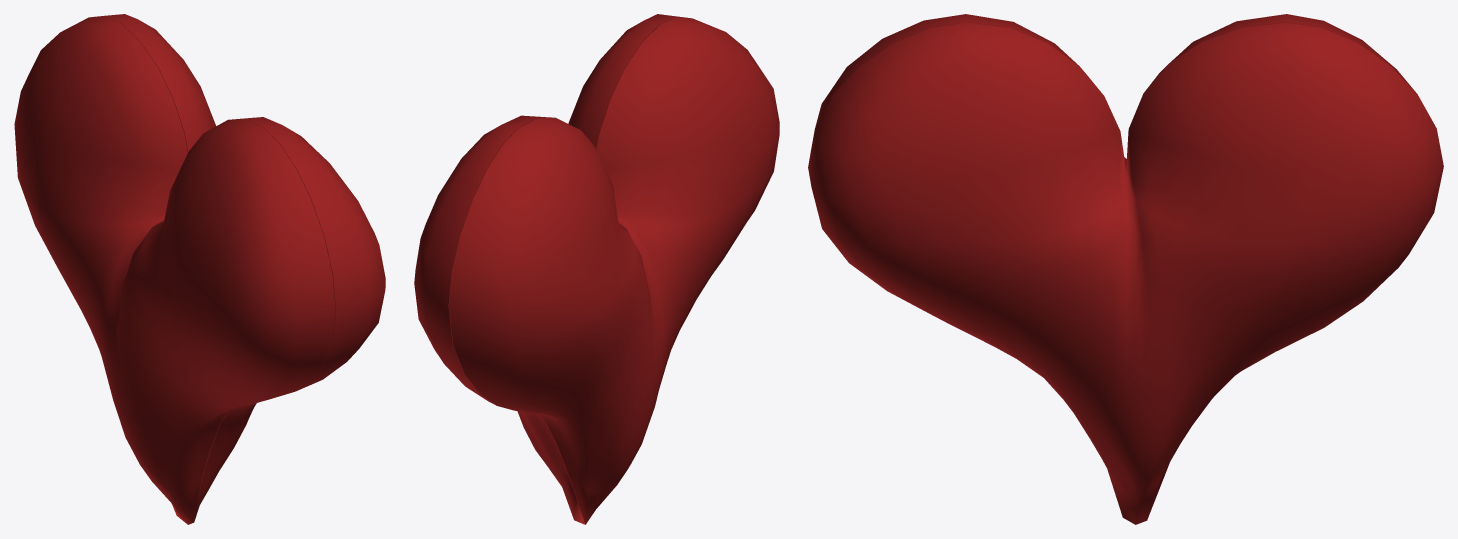
File: coeur.dae
3 renders of one model, left to right at view 1: azimuth 30°, elevation 25°; view 2: azimuth 150°, elevation 25°; view 3: azimuth 270°, elevation 25°, orthographic. The views are drawn at different scales.
Parts seen in each view (by area): view 1: Circle03_PIVOT; view 2: Circle03_PIVOT; view 3: Circle03_PIVOT.
Part boxes in pixels (<box>): Circle03_PIVOT: <box>14,14,385,524</box>; Circle03_PIVOT: <box>414,14,779,524</box>; Circle03_PIVOT: <box>808,14,1443,524</box>.
Size of the model in its own units: 61.96 by 185 by 161.
